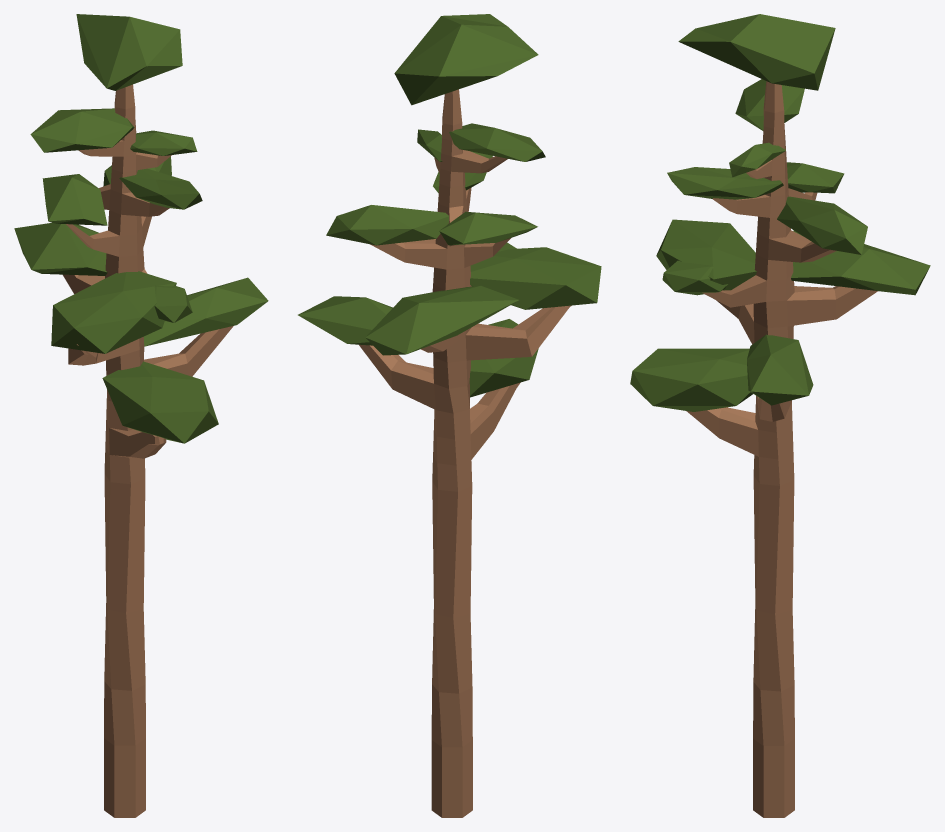
Rendered from tree1.fbx.
3 views of the same model, side by side, from view 1: azimuth 30°, elevation 25°; view 2: azimuth 150°, elevation 25°; view 3: azimuth 270°, elevation 25° (orthographic). The views are drawn at different scales.
Visible parts, largest first — view 1: Cylinder; view 2: Cylinder; view 3: Cylinder.
Boxes of the visible parts, box(x1,y1,x2,y2) form: Cylinder: box(14, 14, 268, 817); Cylinder: box(298, 14, 601, 817); Cylinder: box(630, 14, 930, 817).
Bounding box in the file's own units: 552 × 1675 × 574.
